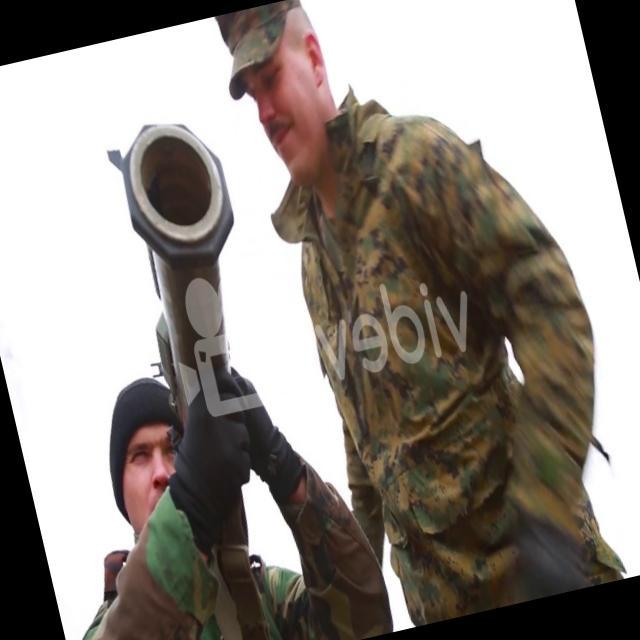rocket: (102, 108, 271, 414)
